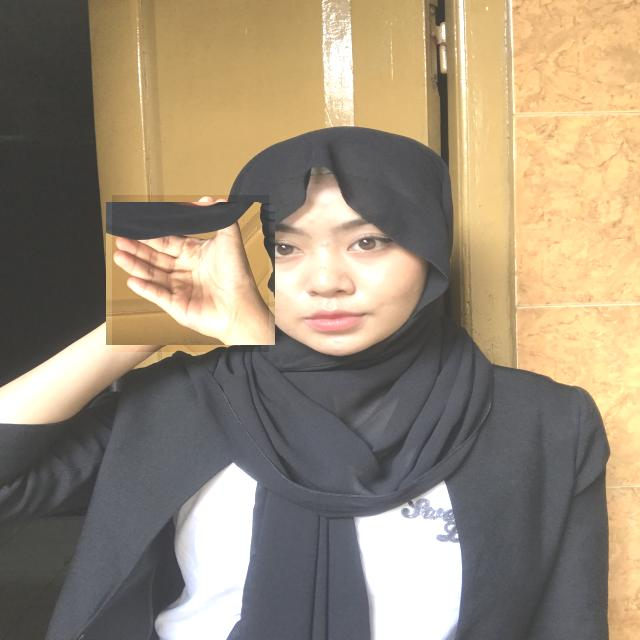mendengar: (112, 195, 269, 352)
